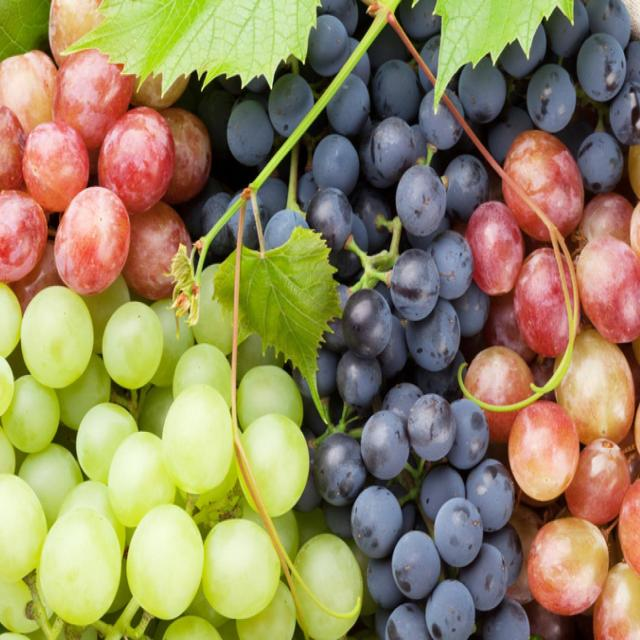Grapes: (0, 275, 371, 640), (289, 227, 514, 640), (475, 141, 640, 640), (225, 11, 496, 250), (5, 21, 209, 317)
